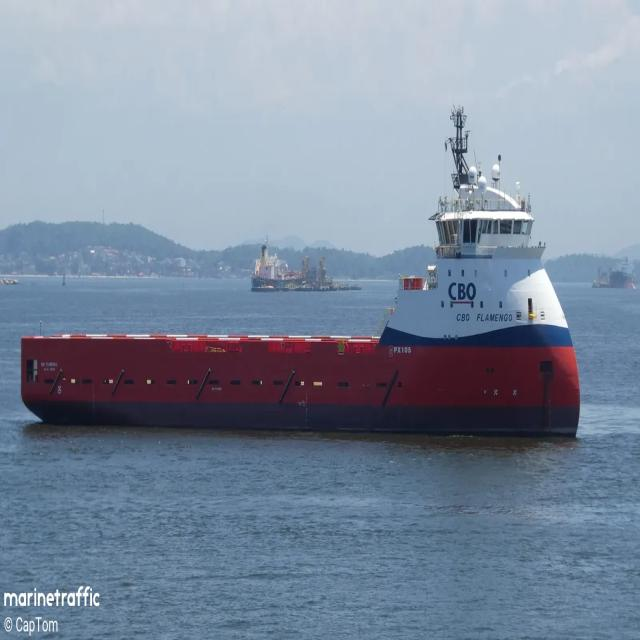Offshore: (21, 109, 580, 437)
